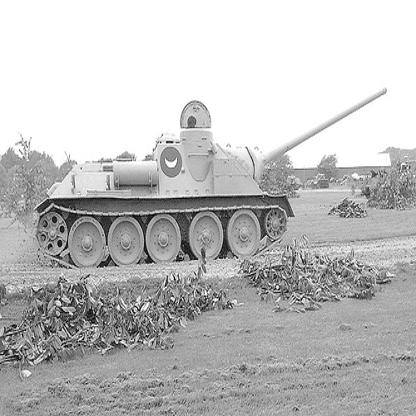Tank: (21, 83, 394, 268)
